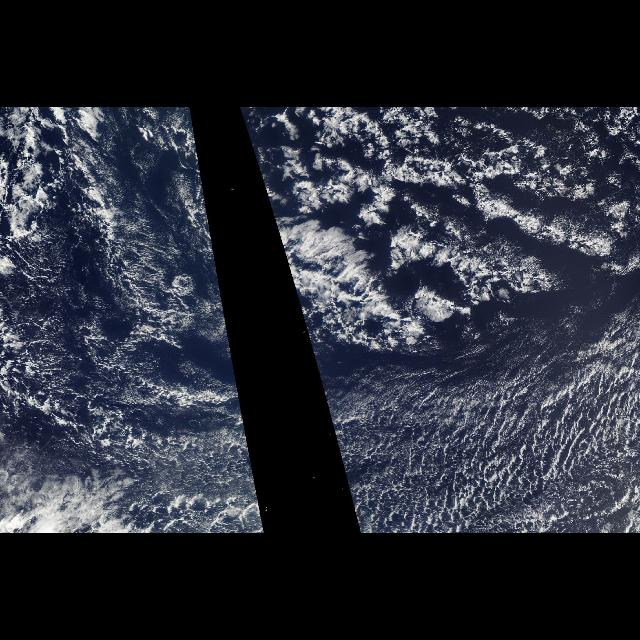Fish: (259, 165, 441, 378), (170, 165, 238, 378)
Gravel: (8, 220, 266, 532), (302, 309, 640, 533)
Sugar: (302, 321, 640, 511), (120, 160, 208, 326)
